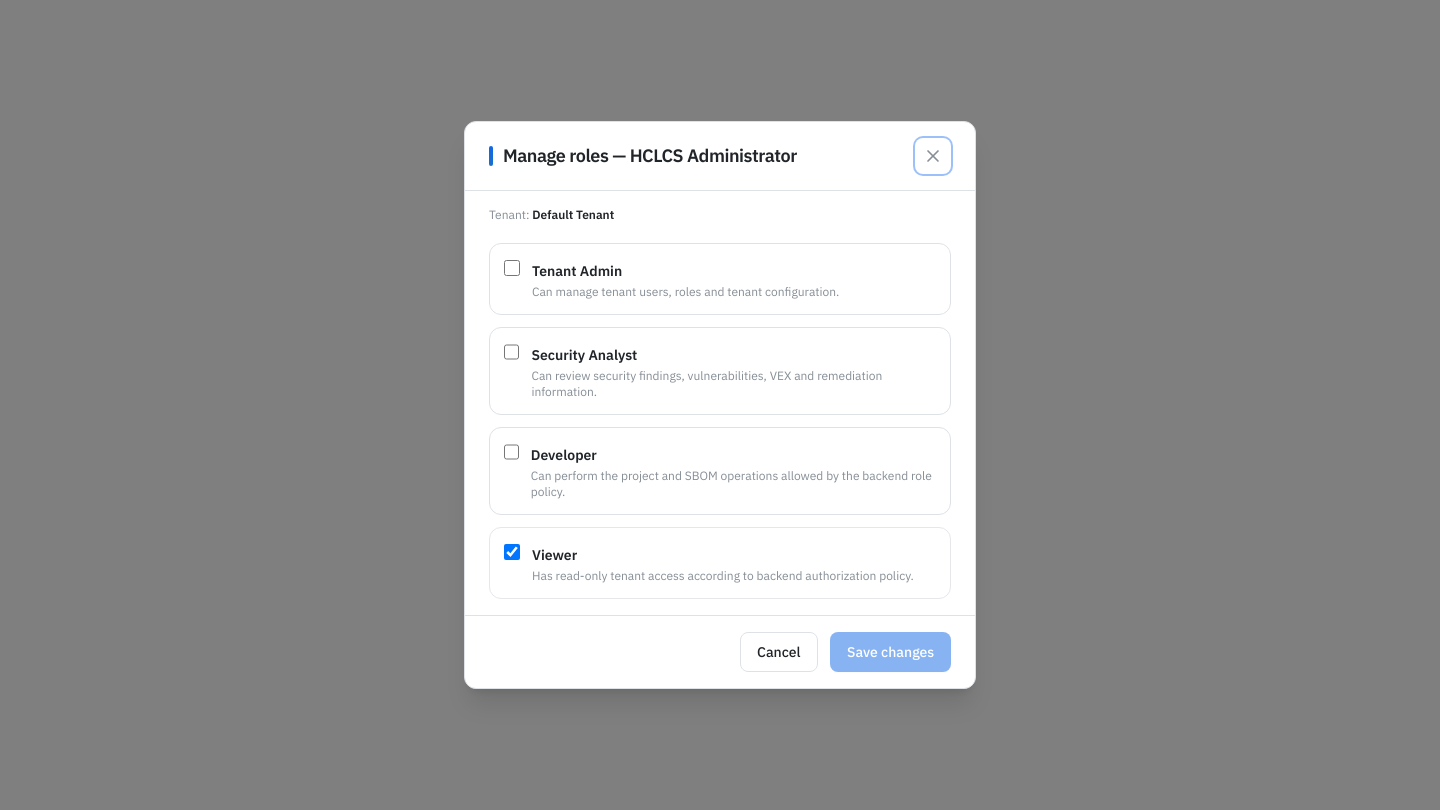
Scenario: ManageRolesModal › disables Save changes when active membership has 0 roles selected
The image size is (1440, 810).
Click the checkbox labelled "Viewer". click: (512, 552)
box: [504,544,520,560]
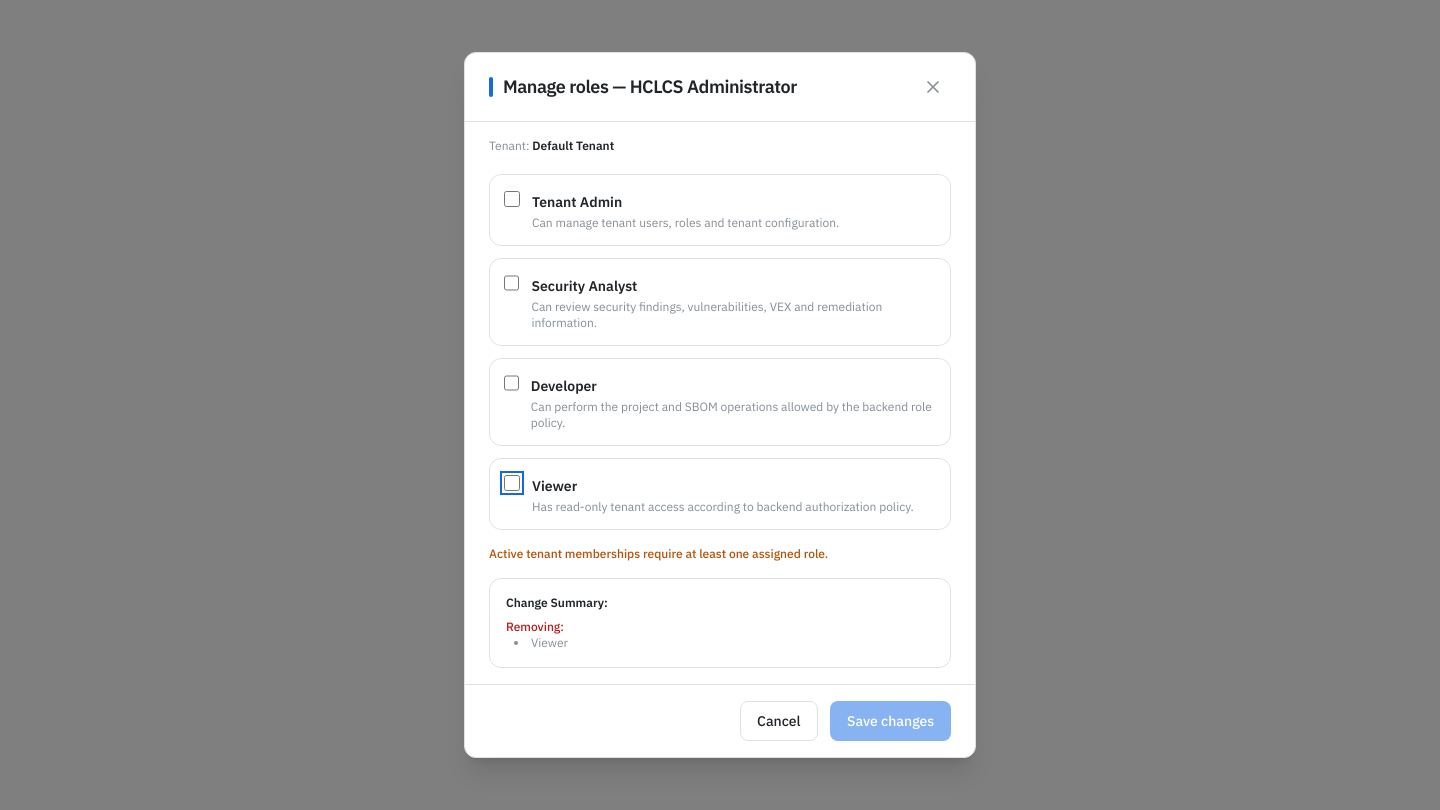
expect the button "Save changes" is disabled: met, box [830,701,951,741]
expect the text "Active tenant memberships require at least one assigned role." is shown: met, box [489,546,828,561]
